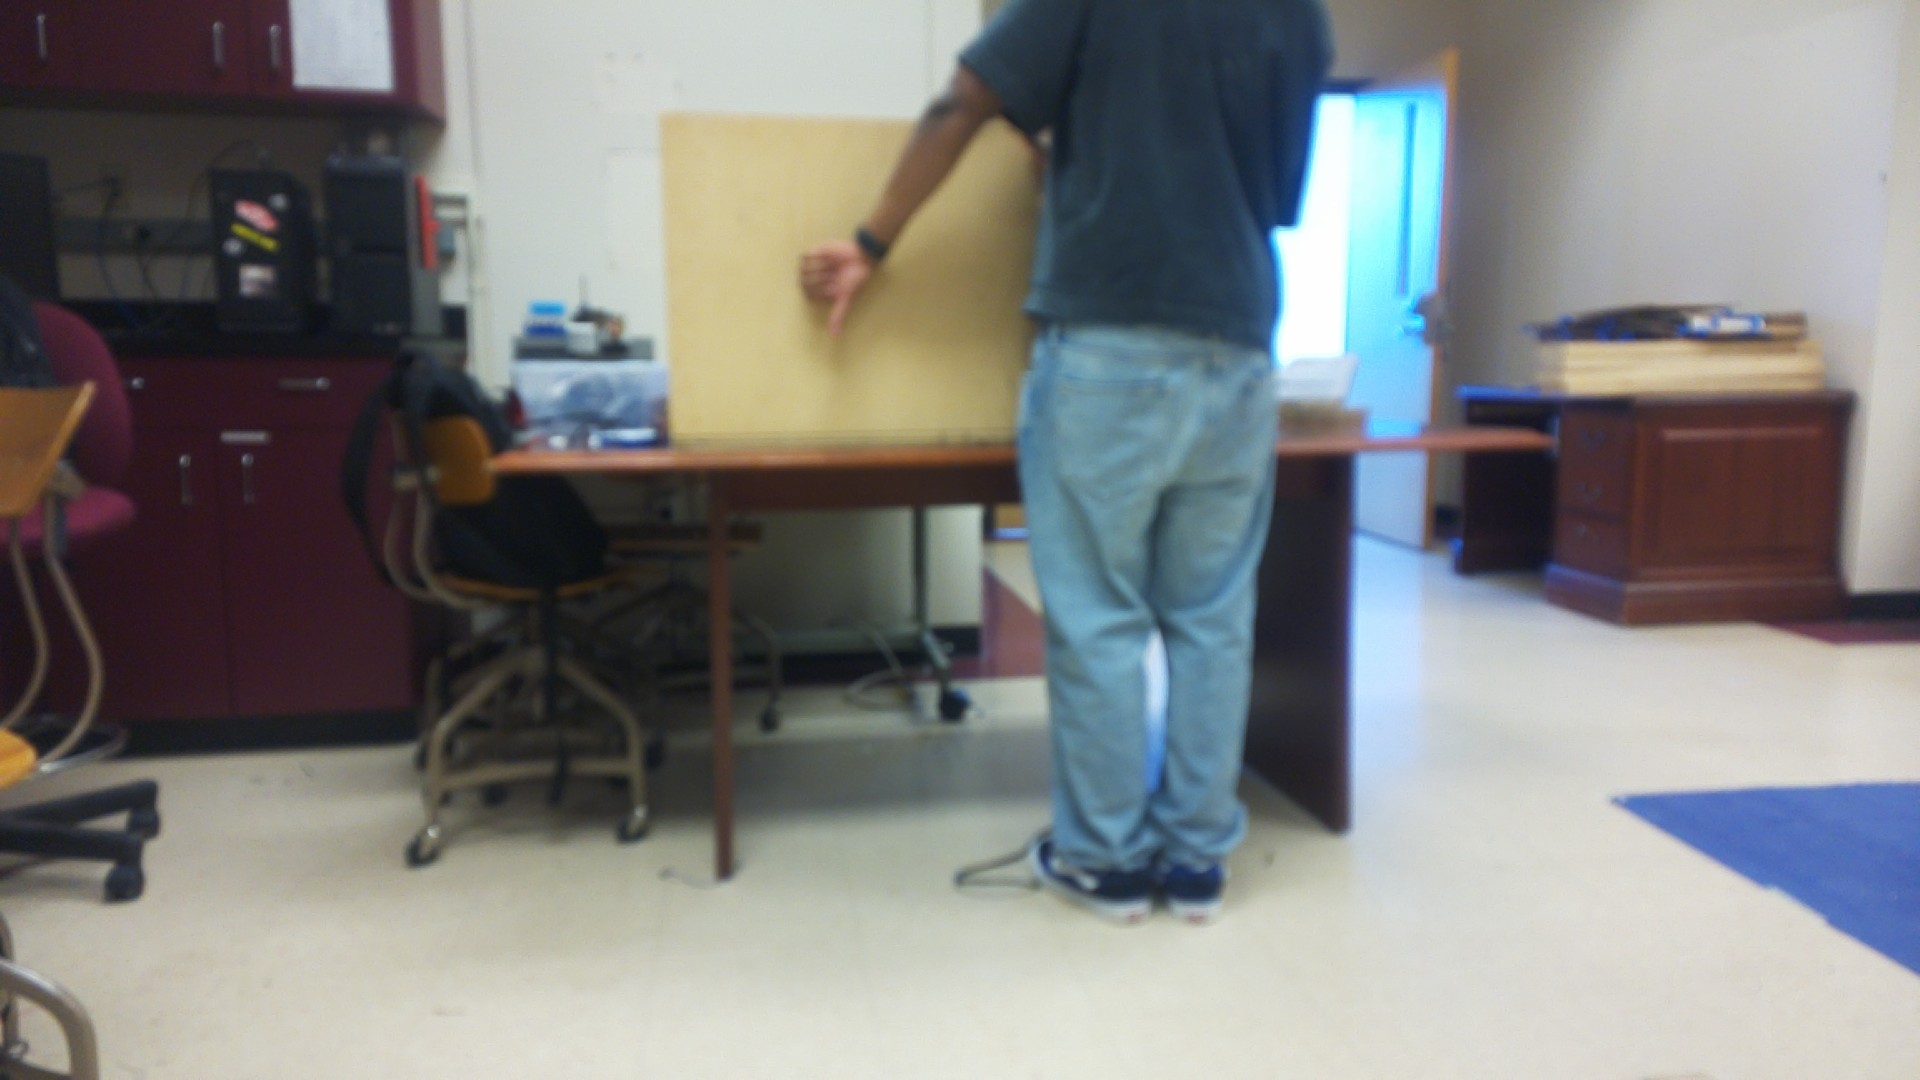td2: (795, 231, 885, 344)
